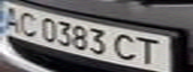0: (36, 15, 60, 44)
3: (87, 26, 112, 57), (54, 19, 75, 48)
8: (69, 23, 90, 53)
A: (0, 3, 27, 34)
C: (112, 32, 142, 63), (12, 9, 42, 37)
T: (133, 35, 169, 65)
